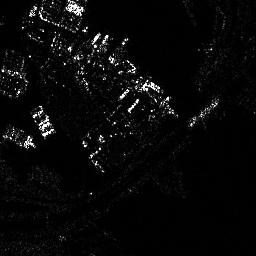ship: (187, 95, 220, 125)
